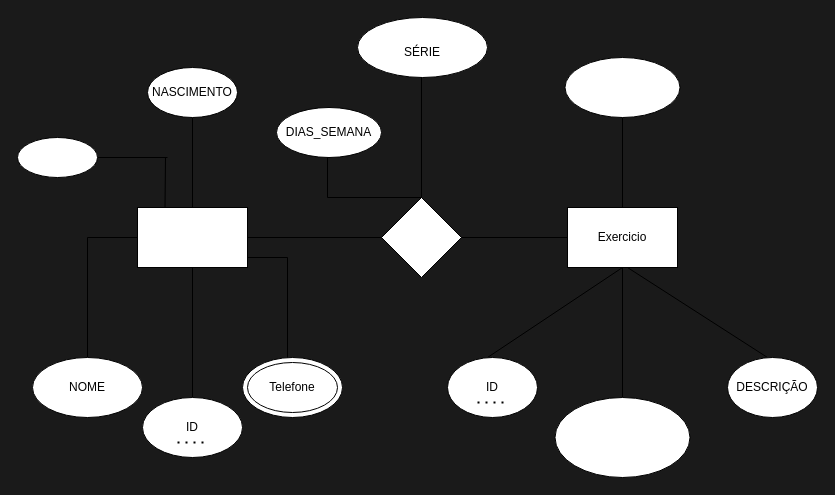
Some shapes in this 835 by 495 pixel diagram are drawn without their labels. The centre of each missing label's shape, as x and y in pixels:
"Aluno" belongs at [192,237].
"APARELHO" belongs at [622,87].
"Ficha Faz" belongs at [421,237].
"GRUPO_MUSCULAR" belongs at [622,437].
"SEXO" belongs at [57,157].
